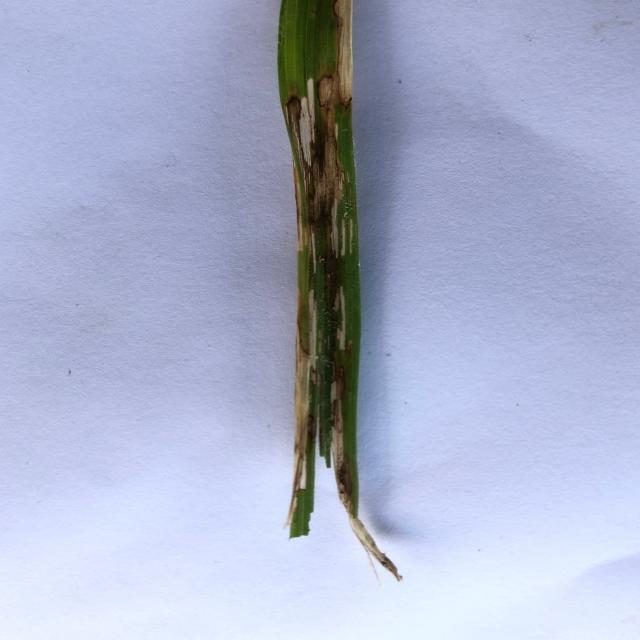Leaf Blight: (290, 287, 398, 582), (288, 0, 352, 276)
